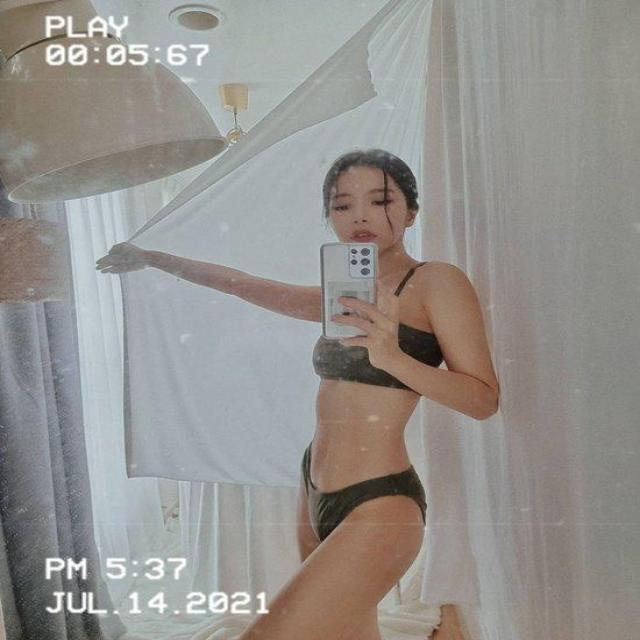phone: (321, 243, 377, 340)
